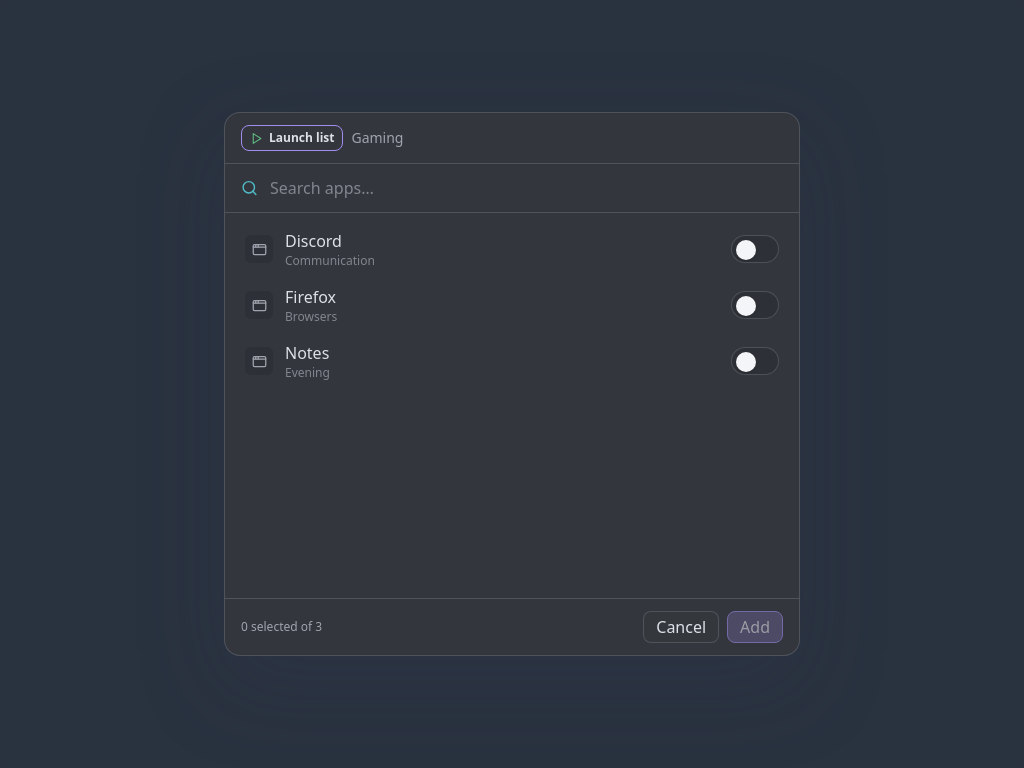
AppPickerDialog › answers a category name with the apps in that category
Type "brow" into the search field named "Add an app to the launch list of Gaming". click: [526, 188]
box: [270,164,783,212]
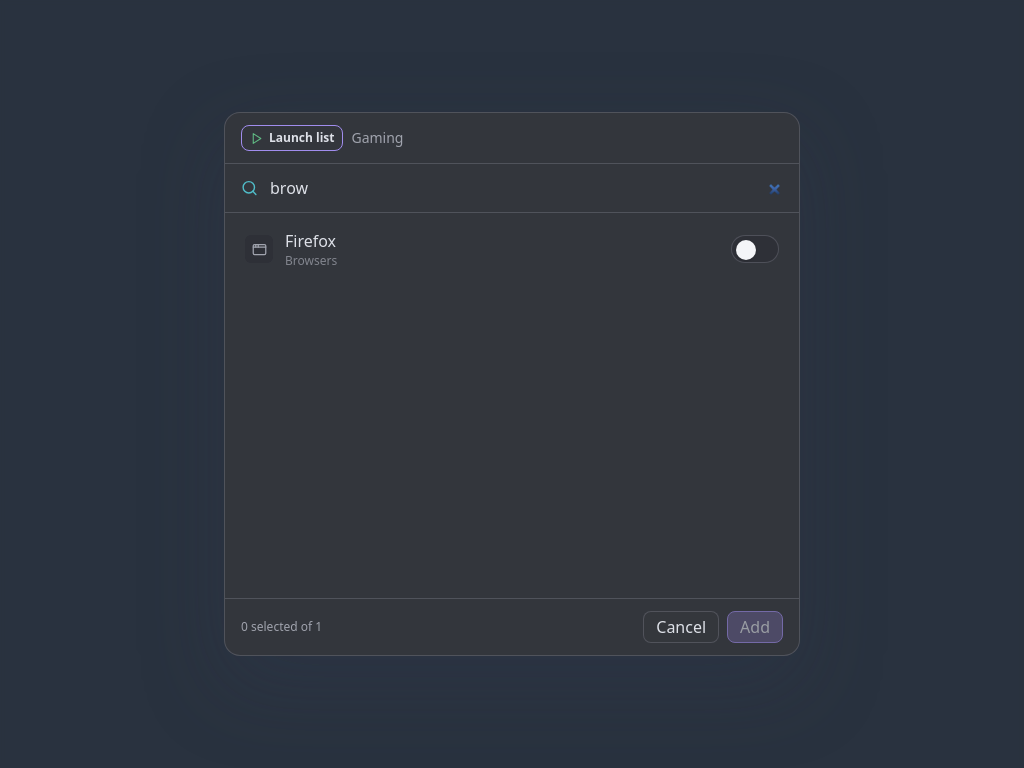
Expected: the number of switches is 1, [233,221,791,277]
